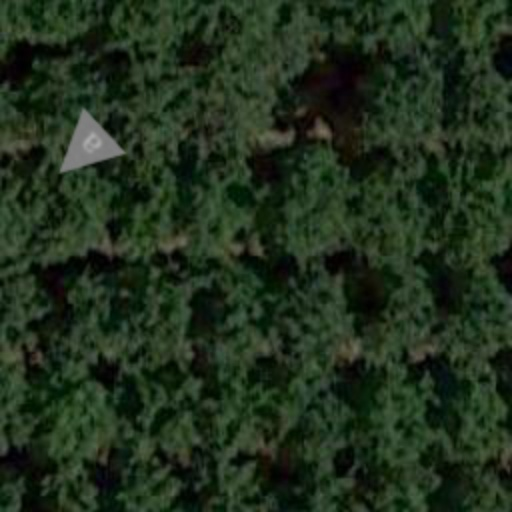triangle: (36, 106, 128, 198)
